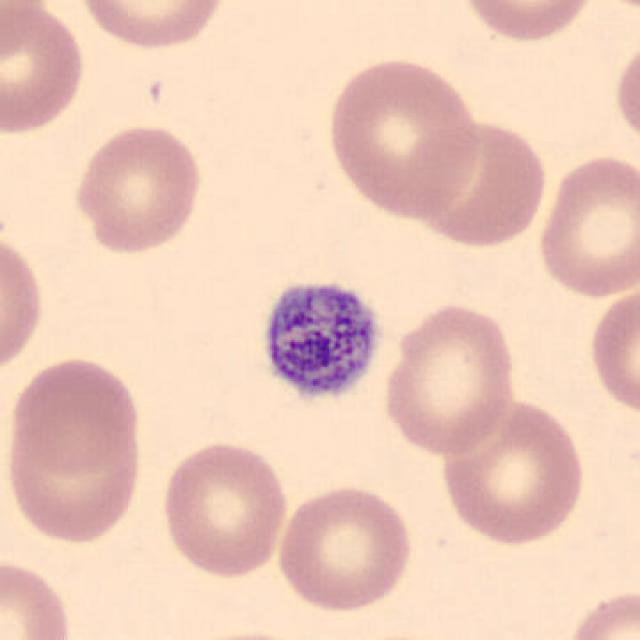Platelets: (249, 266, 387, 414)
RBC: (322, 53, 482, 222), (2, 354, 148, 520), (436, 395, 590, 548), (379, 298, 519, 458), (404, 111, 550, 252), (156, 437, 290, 580), (272, 482, 416, 614), (70, 120, 206, 257), (532, 150, 638, 301), (0, 2, 89, 138), (71, 0, 231, 53), (585, 280, 638, 420), (0, 227, 48, 381), (455, 0, 601, 46), (0, 553, 74, 640), (560, 585, 640, 640), (0, 0, 46, 69), (612, 34, 638, 155), (172, 626, 326, 640), (583, 0, 640, 16)
